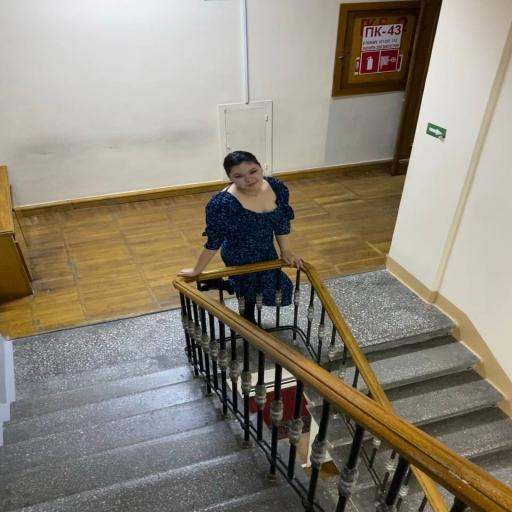laptop: (179, 151, 302, 276)
stairs: (0, 311, 302, 511), (0, 356, 301, 511), (362, 323, 511, 484)
